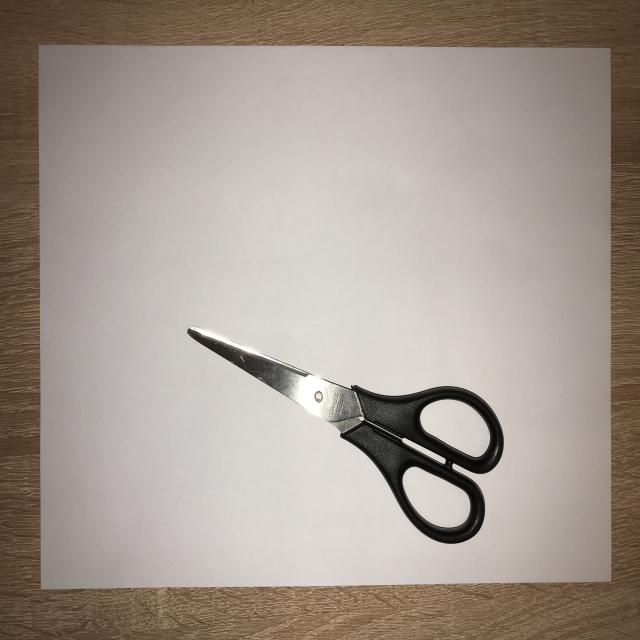scissors: (183, 314, 509, 550)
